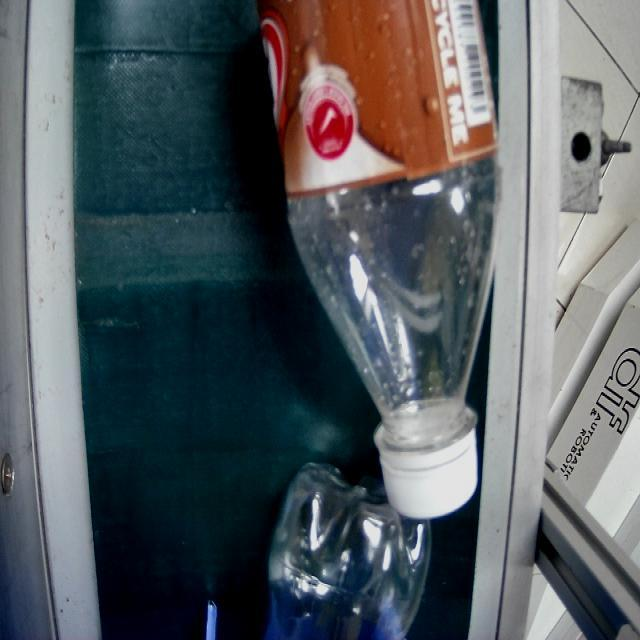Pet_Bottle: (251, 0, 475, 521)
